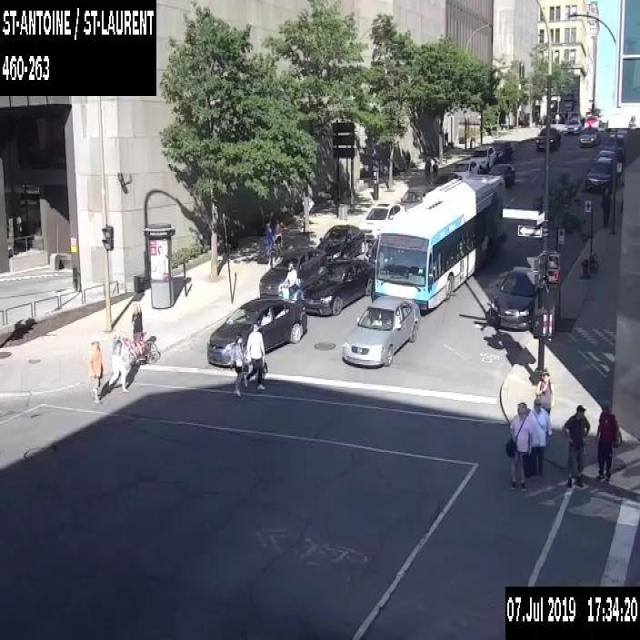bus: (374, 171, 504, 311)
cyclist: (277, 262, 304, 302)
pedestrian: (505, 400, 533, 489), (560, 403, 589, 488), (594, 401, 622, 480), (528, 397, 552, 479), (246, 322, 267, 389), (106, 329, 126, 392), (536, 370, 554, 439), (228, 333, 247, 396), (87, 337, 103, 404), (130, 300, 145, 344), (601, 183, 611, 229), (262, 220, 274, 257), (274, 219, 286, 255), (424, 154, 431, 174), (432, 158, 438, 178)
vehicle: (206, 294, 306, 365), (341, 294, 420, 366), (302, 257, 373, 314), (258, 246, 326, 299), (487, 264, 539, 329), (360, 201, 404, 244), (317, 224, 364, 261), (583, 156, 615, 192), (399, 184, 434, 211), (470, 144, 496, 169), (488, 162, 515, 186), (535, 126, 561, 149), (605, 132, 625, 160), (452, 157, 479, 175), (491, 138, 513, 160), (594, 149, 618, 165), (579, 126, 599, 145), (364, 236, 378, 263), (432, 172, 458, 186), (563, 115, 581, 134), (583, 113, 598, 127)
